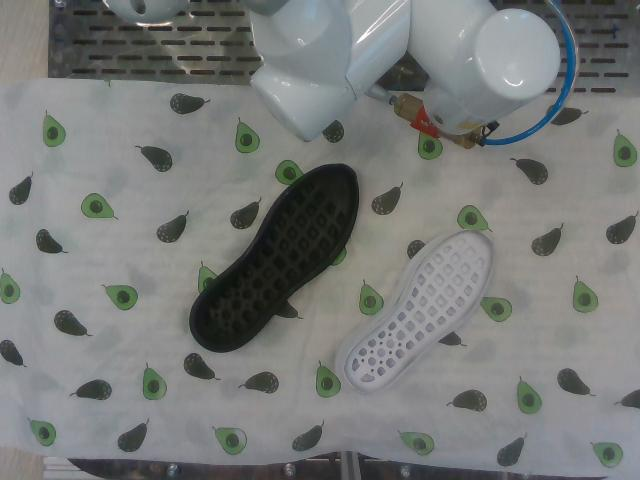shoes: (194, 166, 357, 345), (344, 230, 494, 393)
